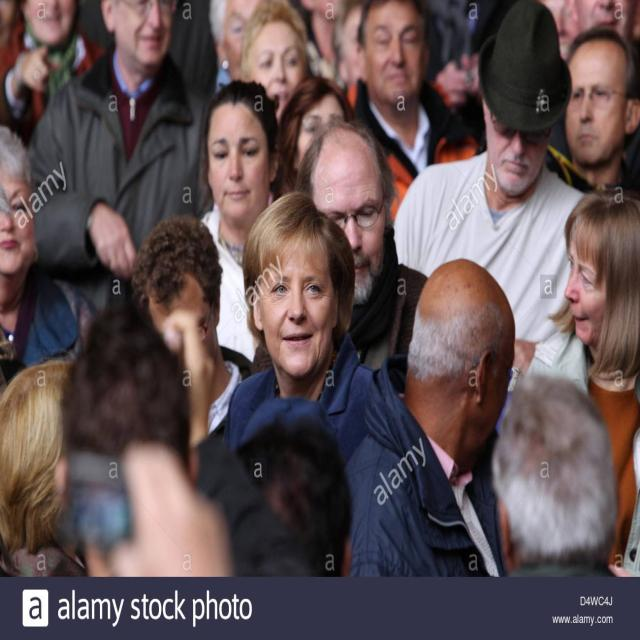body: (0, 0, 640, 587), (392, 2, 592, 404), (26, 0, 215, 326), (341, 258, 517, 576), (244, 111, 434, 376), (214, 185, 380, 467), (530, 190, 640, 578), (341, 0, 486, 238), (193, 78, 286, 364)
